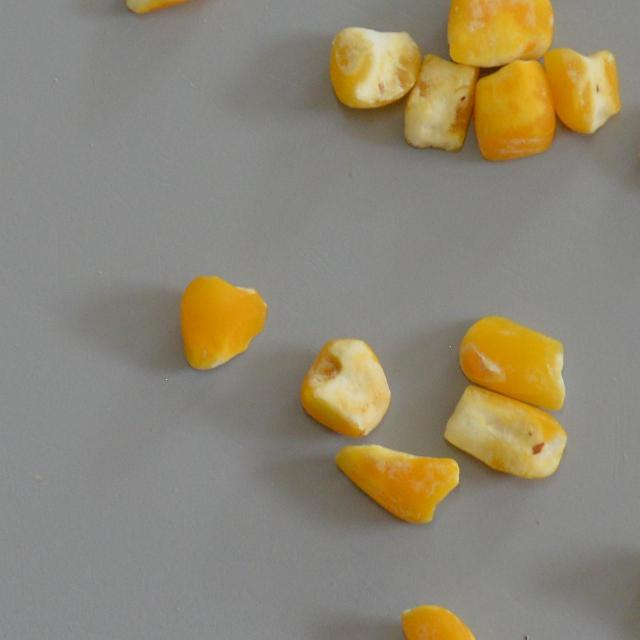dañado: (442, 382, 571, 484), (332, 438, 462, 529), (455, 311, 570, 412), (296, 334, 394, 442), (178, 270, 270, 375), (472, 56, 556, 166), (327, 23, 424, 112), (444, 0, 556, 68), (398, 598, 498, 640), (120, 0, 236, 19)
punto_negro: (399, 50, 480, 160), (540, 44, 626, 139)
